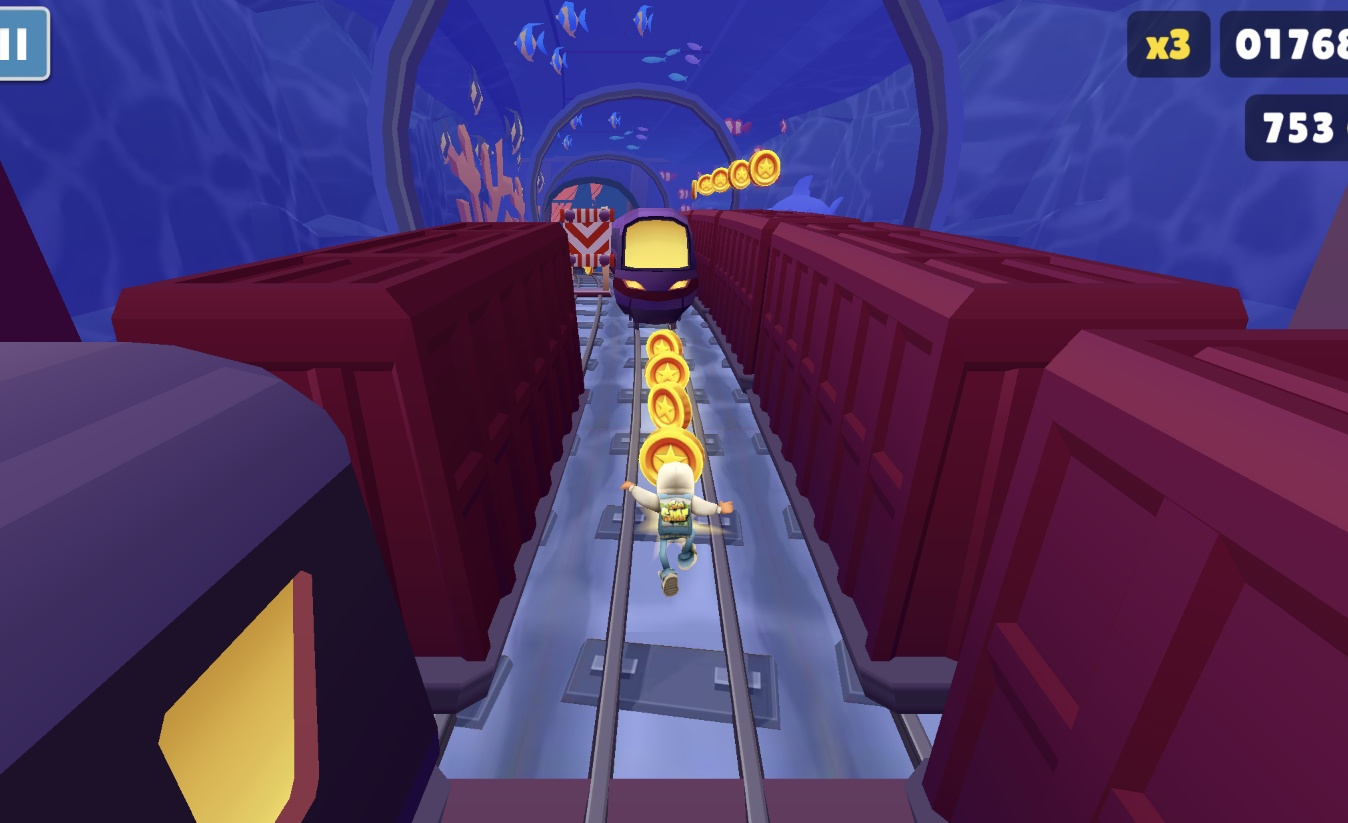overhead_barrier: (548, 205, 616, 295)
train: (687, 209, 1348, 823), (0, 219, 587, 823), (611, 205, 700, 324)
